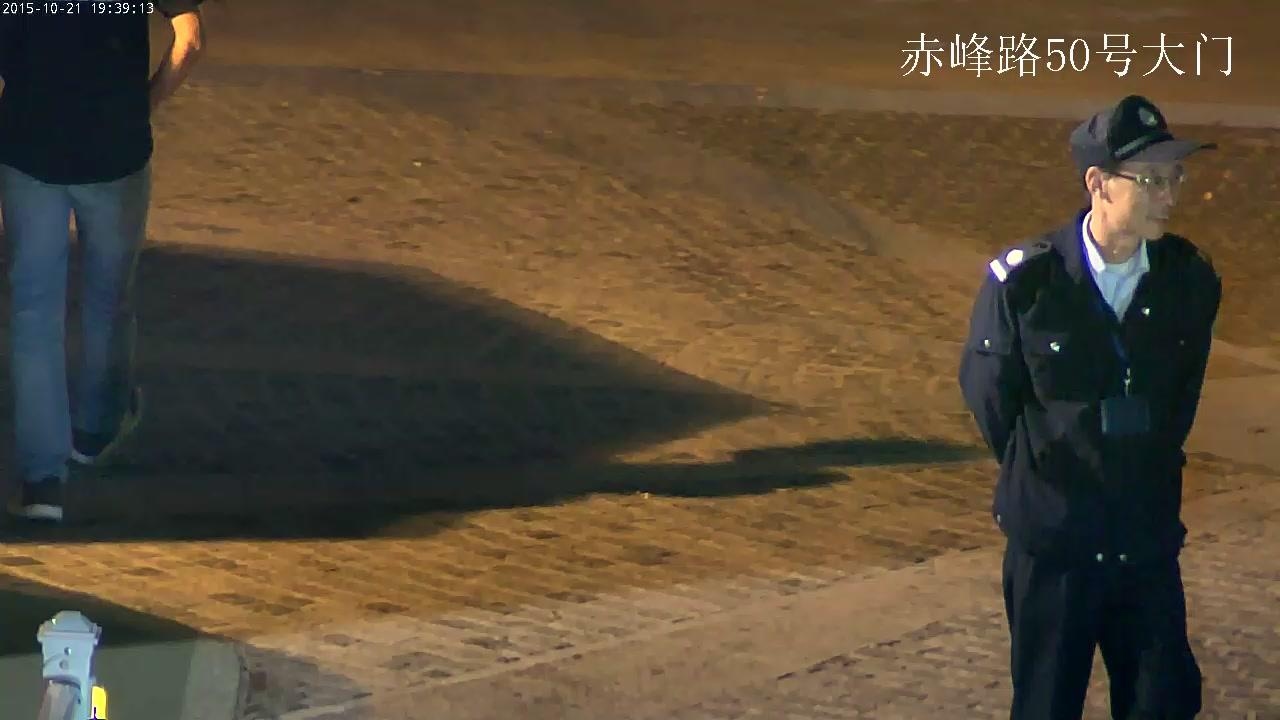face: (1107, 159, 1182, 240)
